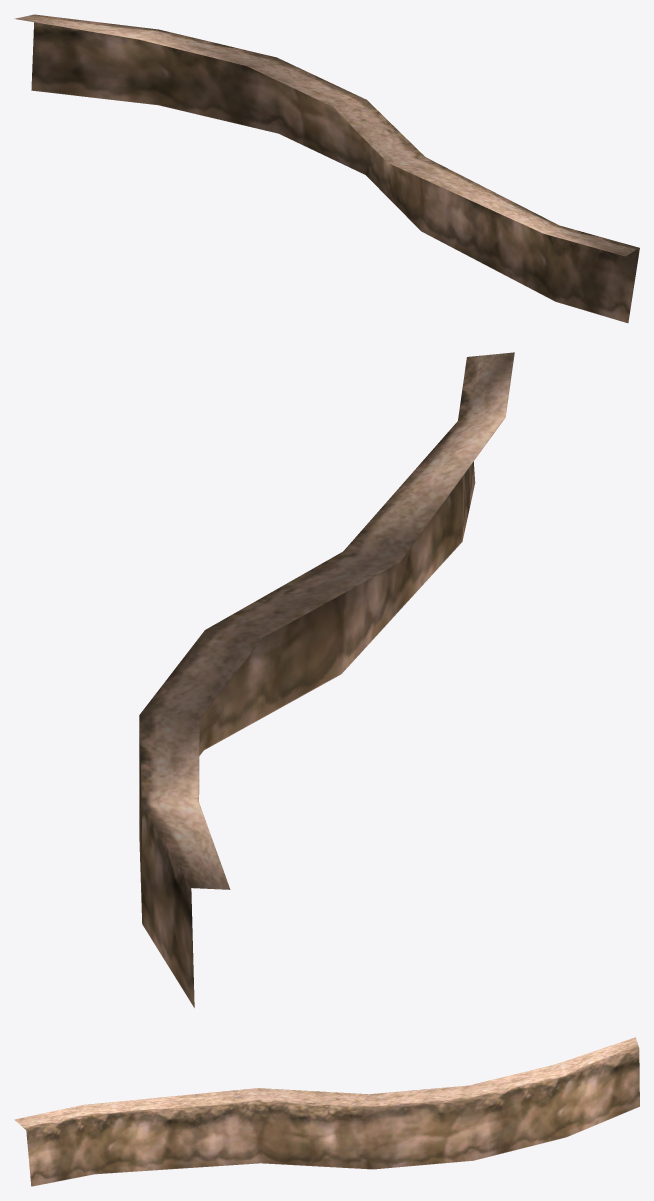
File: EKH_ENTRANCE_PS_EN_EDGEGRAB484747.fbx
3 views of the same model, one above another, from view 1: azimuth 30°, elevation 25°; view 2: azimuth 150°, elevation 25°; view 3: azimuth 270°, elevation 25° (orthographic). The views are drawn at different scales.
Visible parts, largest first — view 1: EKH_ENTRANCE_PS_EN_EDGEGRAB484747; view 2: EKH_ENTRANCE_PS_EN_EDGEGRAB484747; view 3: EKH_ENTRANCE_PS_EN_EDGEGRAB484747.
Boxes of the visible parts, <box> form: EKH_ENTRANCE_PS_EN_EDGEGRAB484747: <box>14,14,639,323</box>; EKH_ENTRANCE_PS_EN_EDGEGRAB484747: <box>139,352,514,1007</box>; EKH_ENTRANCE_PS_EN_EDGEGRAB484747: <box>14,1037,639,1186</box>.
Size of the model in its own units: 14373 by 4542 by 41773.
1 material, 1 textured.
